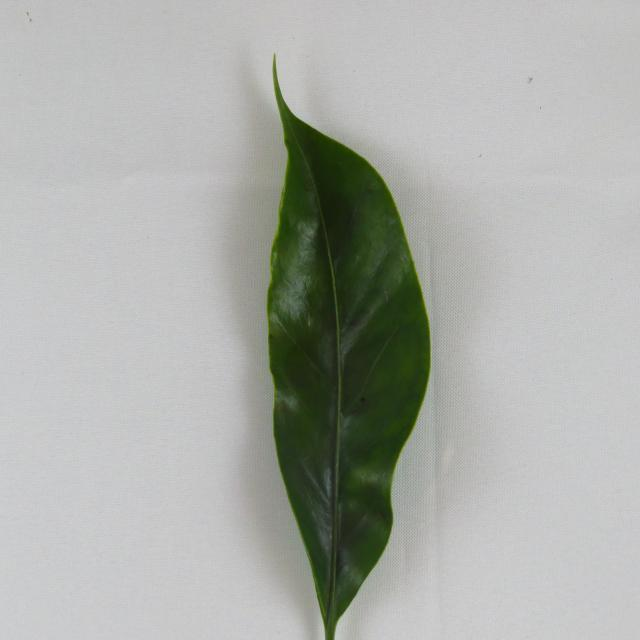DeficienciaNutricional-Calcio: (268, 60, 430, 638)
